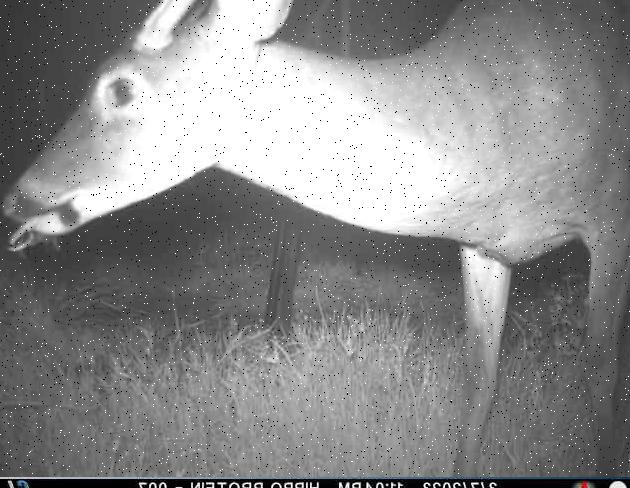Deer: (0, 0, 630, 475)
